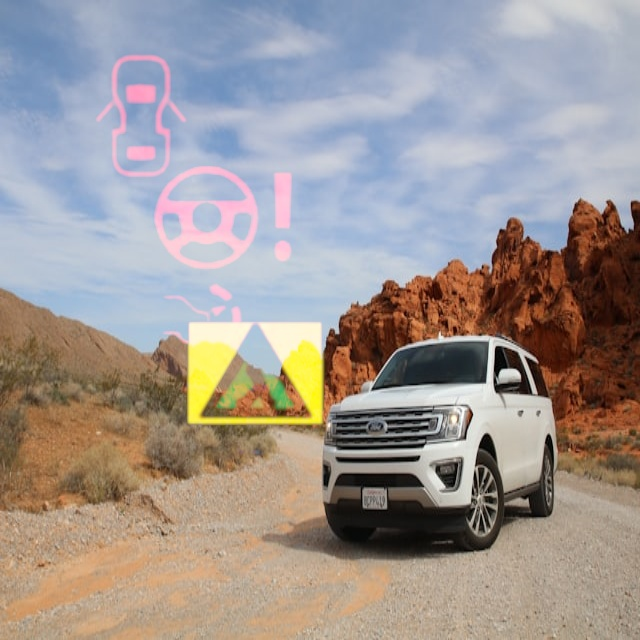symbol: (163, 281, 348, 466), (51, 30, 231, 210), (119, 231, 288, 400), (140, 135, 308, 303)
